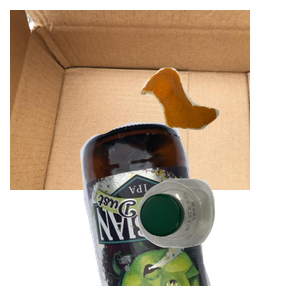cardboard: (10, 10, 250, 190)
glass: (78, 120, 281, 300)
plastic: (135, 176, 300, 300)
trash: (137, 65, 300, 188)
